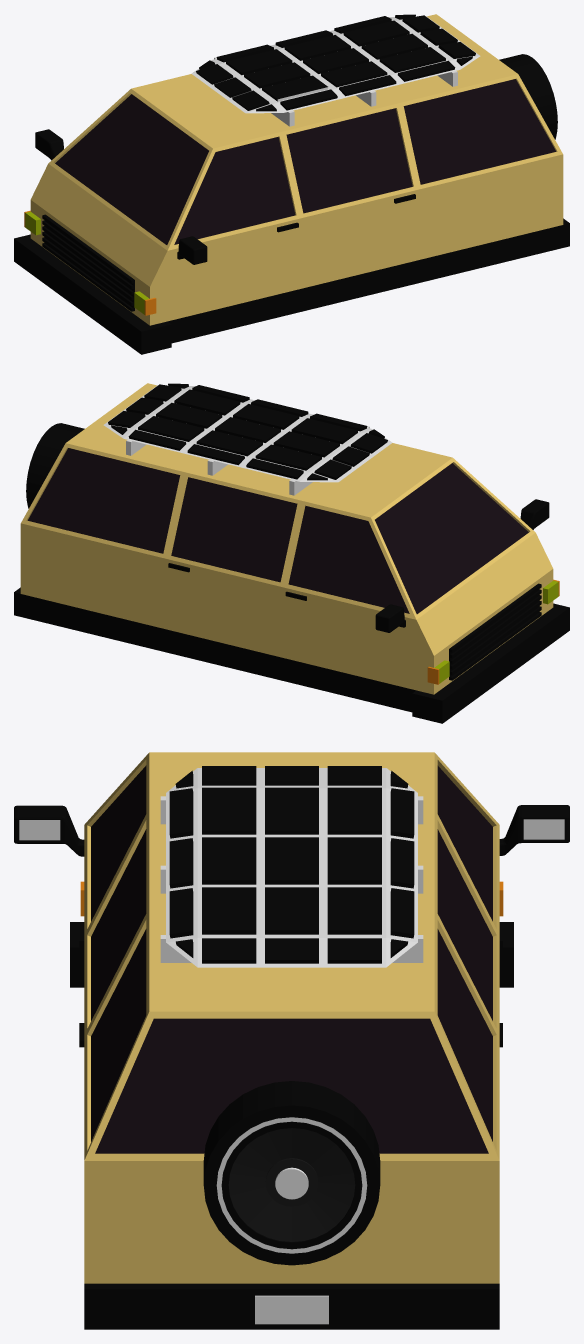
The model's file is van_body.fbx.
The picture shows the model from 3 angles, top to bottom: view 1: azimuth 30°, elevation 25°; view 2: azimuth 150°, elevation 25°; view 3: azimuth 270°, elevation 25°; orthographic projection. The views are drawn at different scales.
Parts seen in each view (by area): view 1: Van Body, solar panel, grill panel struts, tire.001, headlights.001, left miror.001, solar supports, grill bg, right mirror.001; view 2: Van Body, solar panel, grill panel struts, tire.001, headlights.001, right mirror.001, solar supports, grill bg, left miror.001; view 3: Van Body, solar panel, tire.001, left miror.001, right mirror.001, license plate, solar supports.
Boxes of the visible parts, <box> form: Van Body: <box>14,14,569,354</box>; solar panel: <box>191,14,480,113</box>; grill panel struts: <box>42,214,134,311</box>; tire.001: <box>499,54,557,139</box>; headlights.001: <box>24,210,156,315</box>; left miror.001: <box>177,236,207,264</box>; solar supports: <box>214,57,457,126</box>; grill bg: <box>44,220,134,309</box>; right mirror.001: <box>35,129,63,160</box>; Van Body: <box>14,383,569,723</box>; solar panel: <box>103,383,392,482</box>; grill panel struts: <box>449,583,541,680</box>; tire.001: <box>26,423,84,508</box>; headlights.001: <box>427,579,559,684</box>; right mirror.001: <box>375,604,405,632</box>; solar supports: <box>126,426,369,495</box>; grill bg: <box>449,589,539,678</box>; left miror.001: <box>520,499,549,529</box>; Van Body: <box>70,752,513,1329</box>; solar panel: <box>166,766,417,967</box>; tire.001: <box>203,1081,380,1265</box>; left miror.001: <box>14,805,84,856</box>; right mirror.001: <box>499,805,569,855</box>; license plate: <box>255,1295,328,1324</box>; solar supports: <box>160,796,423,962</box>.
Size of the model in its own units: 660 by 402 by 257.
